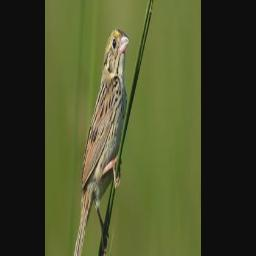Sparrow: (68, 26, 130, 256)
